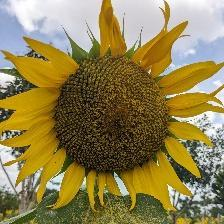sunflower: (16, 18, 213, 209)
